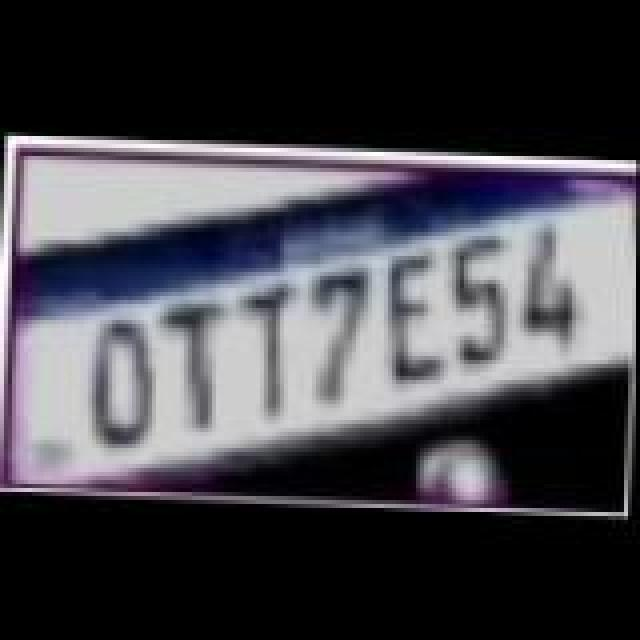4: (510, 216, 598, 352)
5: (434, 226, 530, 366)
7: (296, 258, 392, 402)
E: (364, 242, 468, 386)
O: (80, 314, 172, 450)
T: (228, 272, 316, 416), (150, 294, 238, 430)
